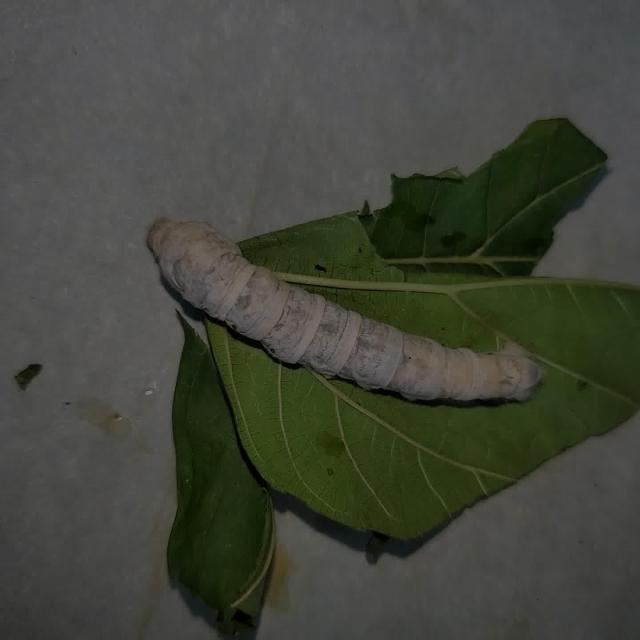Grasserie: (138, 205, 556, 419)
